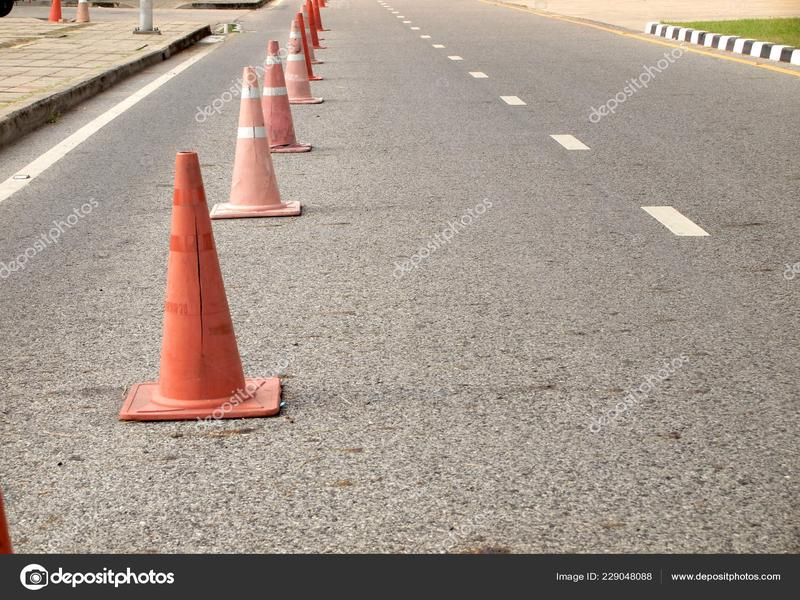Cone: (116, 151, 281, 422)
